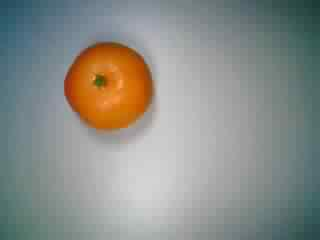orange: (60, 39, 155, 141)
